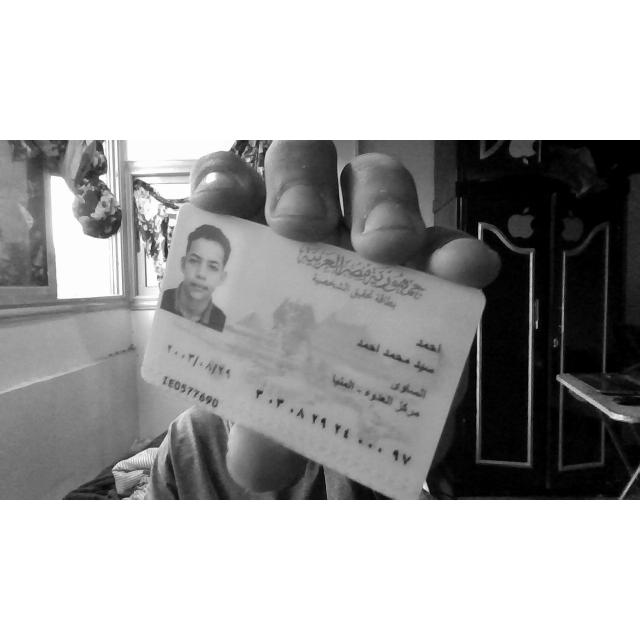id_card: (141, 204, 485, 500)
